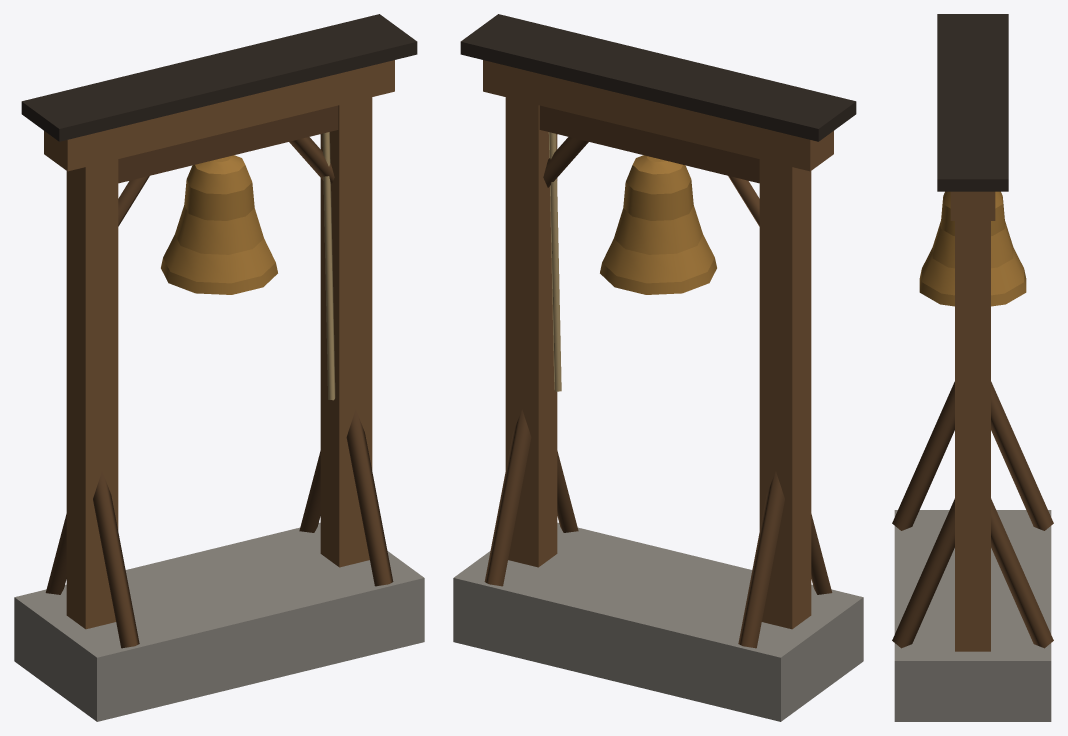
Rendered from harbour_bell.glb.
3 renders of one model, left to right at view 1: azimuth 30°, elevation 25°; view 2: azimuth 150°, elevation 25°; view 3: azimuth 270°, elevation 25°, orthographic. The views are drawn at different scales.
Parts seen in each view (by area): view 1: Frame, BellMesh; view 2: Frame, BellMesh; view 3: Frame, BellMesh.
Boxes of the visible parts, x1,y1,x2,y2 form: Frame: (14,14,424,721); BellMesh: (118,105,338,400); Frame: (453,14,863,721); BellMesh: (539,105,759,391); Frame: (892,14,1053,721); BellMesh: (919,191,1026,306).
Size of the model in its own units: 1.75 by 2.71 by 0.7236.
Materials: 1 (1 with a texture image).
